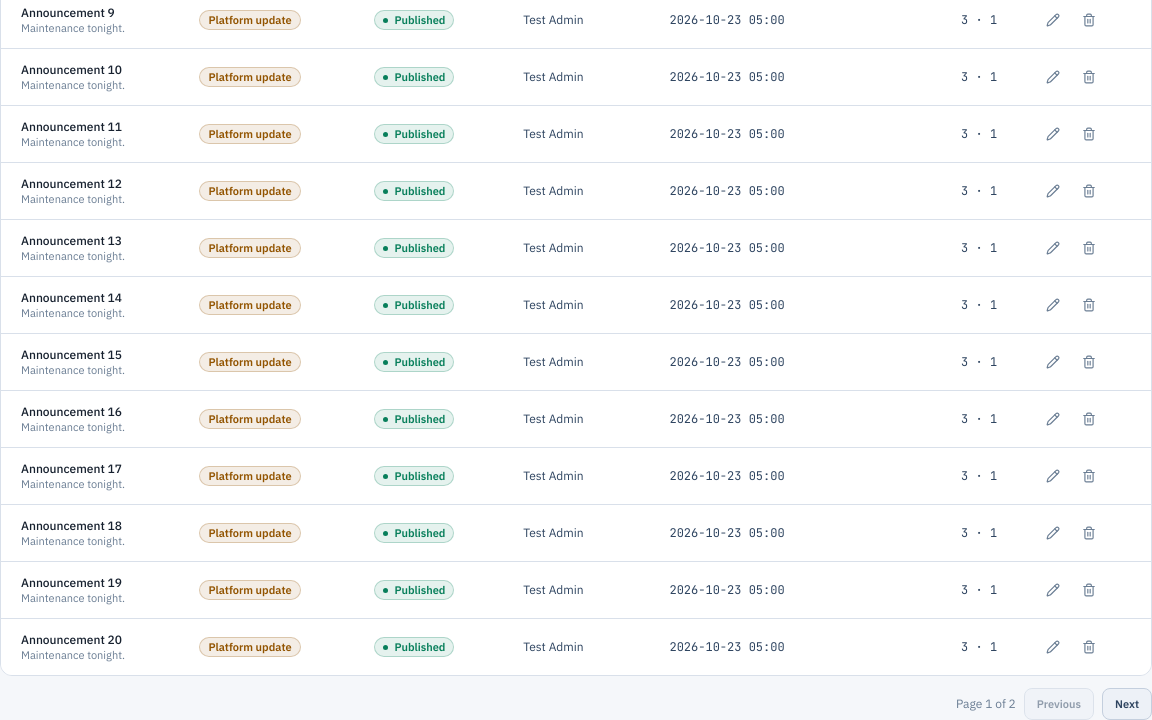
Test case: announcement screens (UC-44) › goes back to the last page when a deletion empties the one shown
This screenshot has width=1152, height=720.
(page scrolled)
Click the button "Next".
click(1127, 704)  # box [1102,688,1151,719]
(page scrolled)
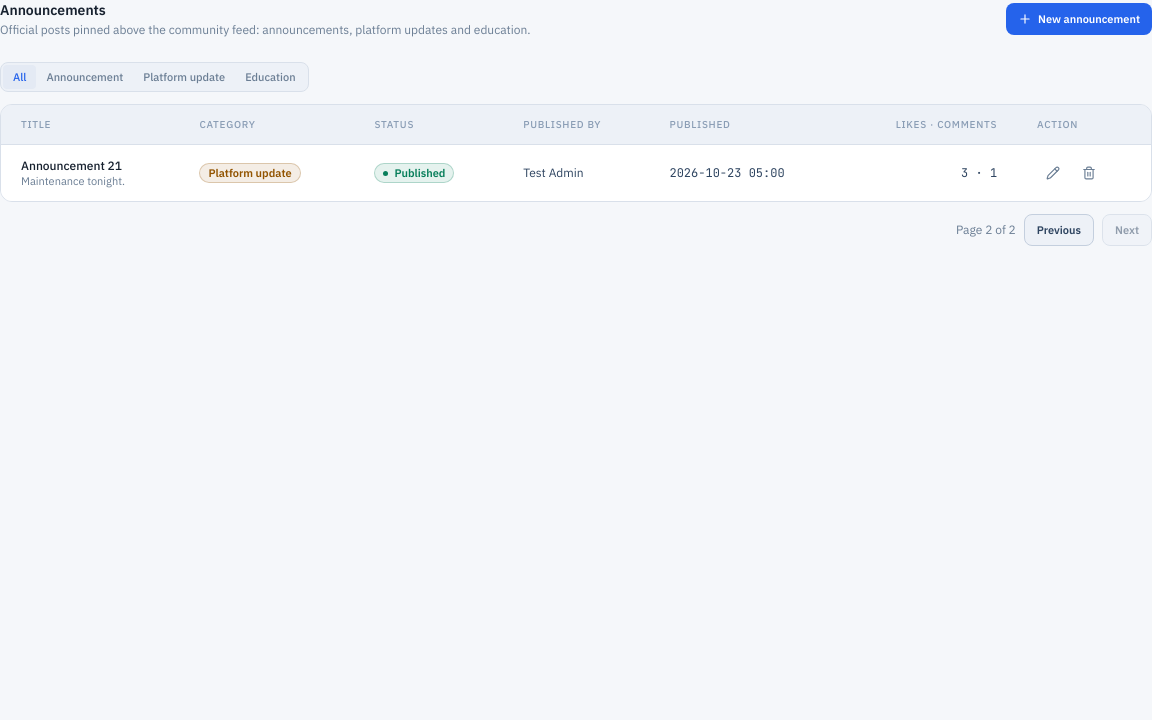
Result: the text "Announcement 21" is shown at [21,158,122,173]
Click the button named "Delete \"Announcement 21\"".
click(1089, 173)  # box [1073,157,1105,189]
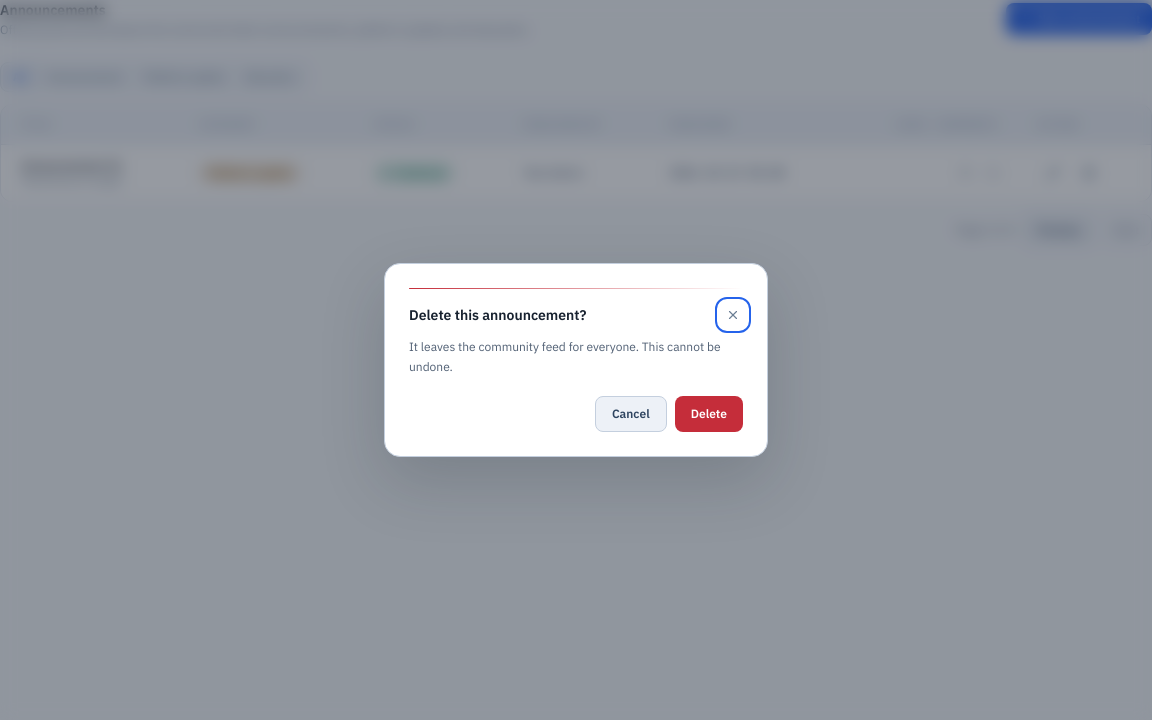
Click the button "Delete".
click(709, 414)  # box [675,396,743,432]
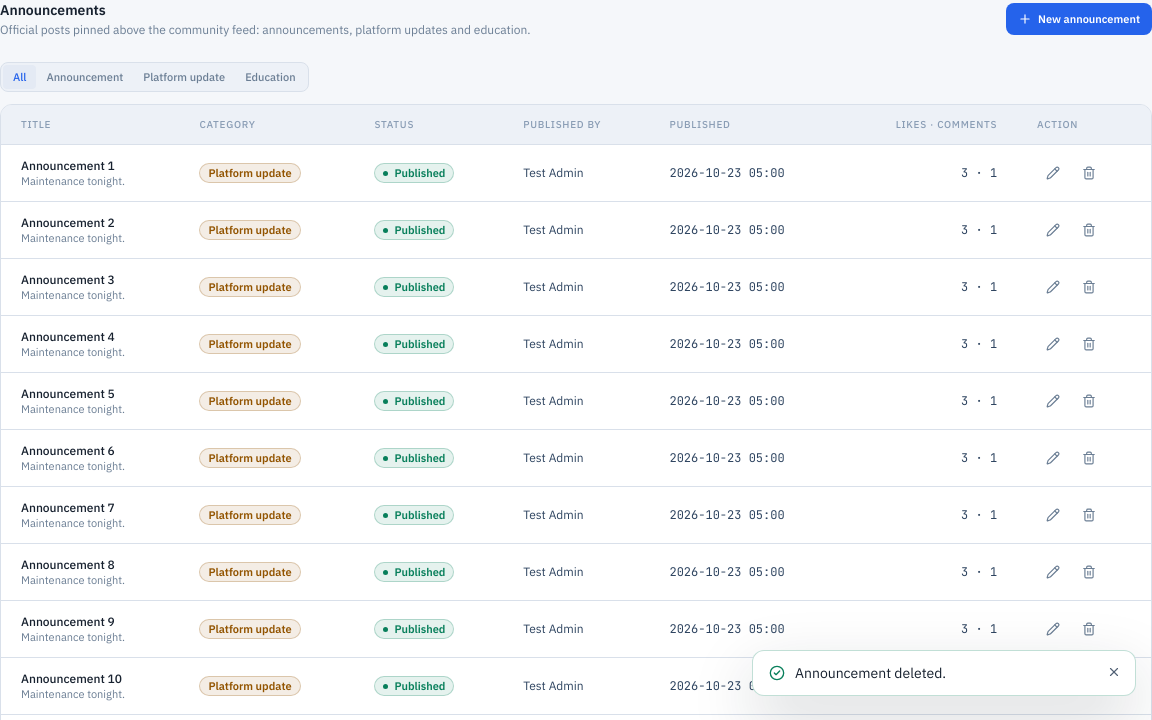
Result: the text "Announcement 1" is shown at [21,158,115,173]
